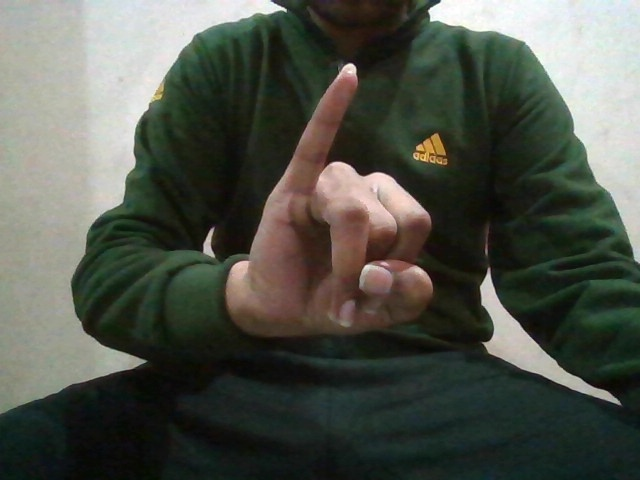I: (247, 58, 439, 332)
